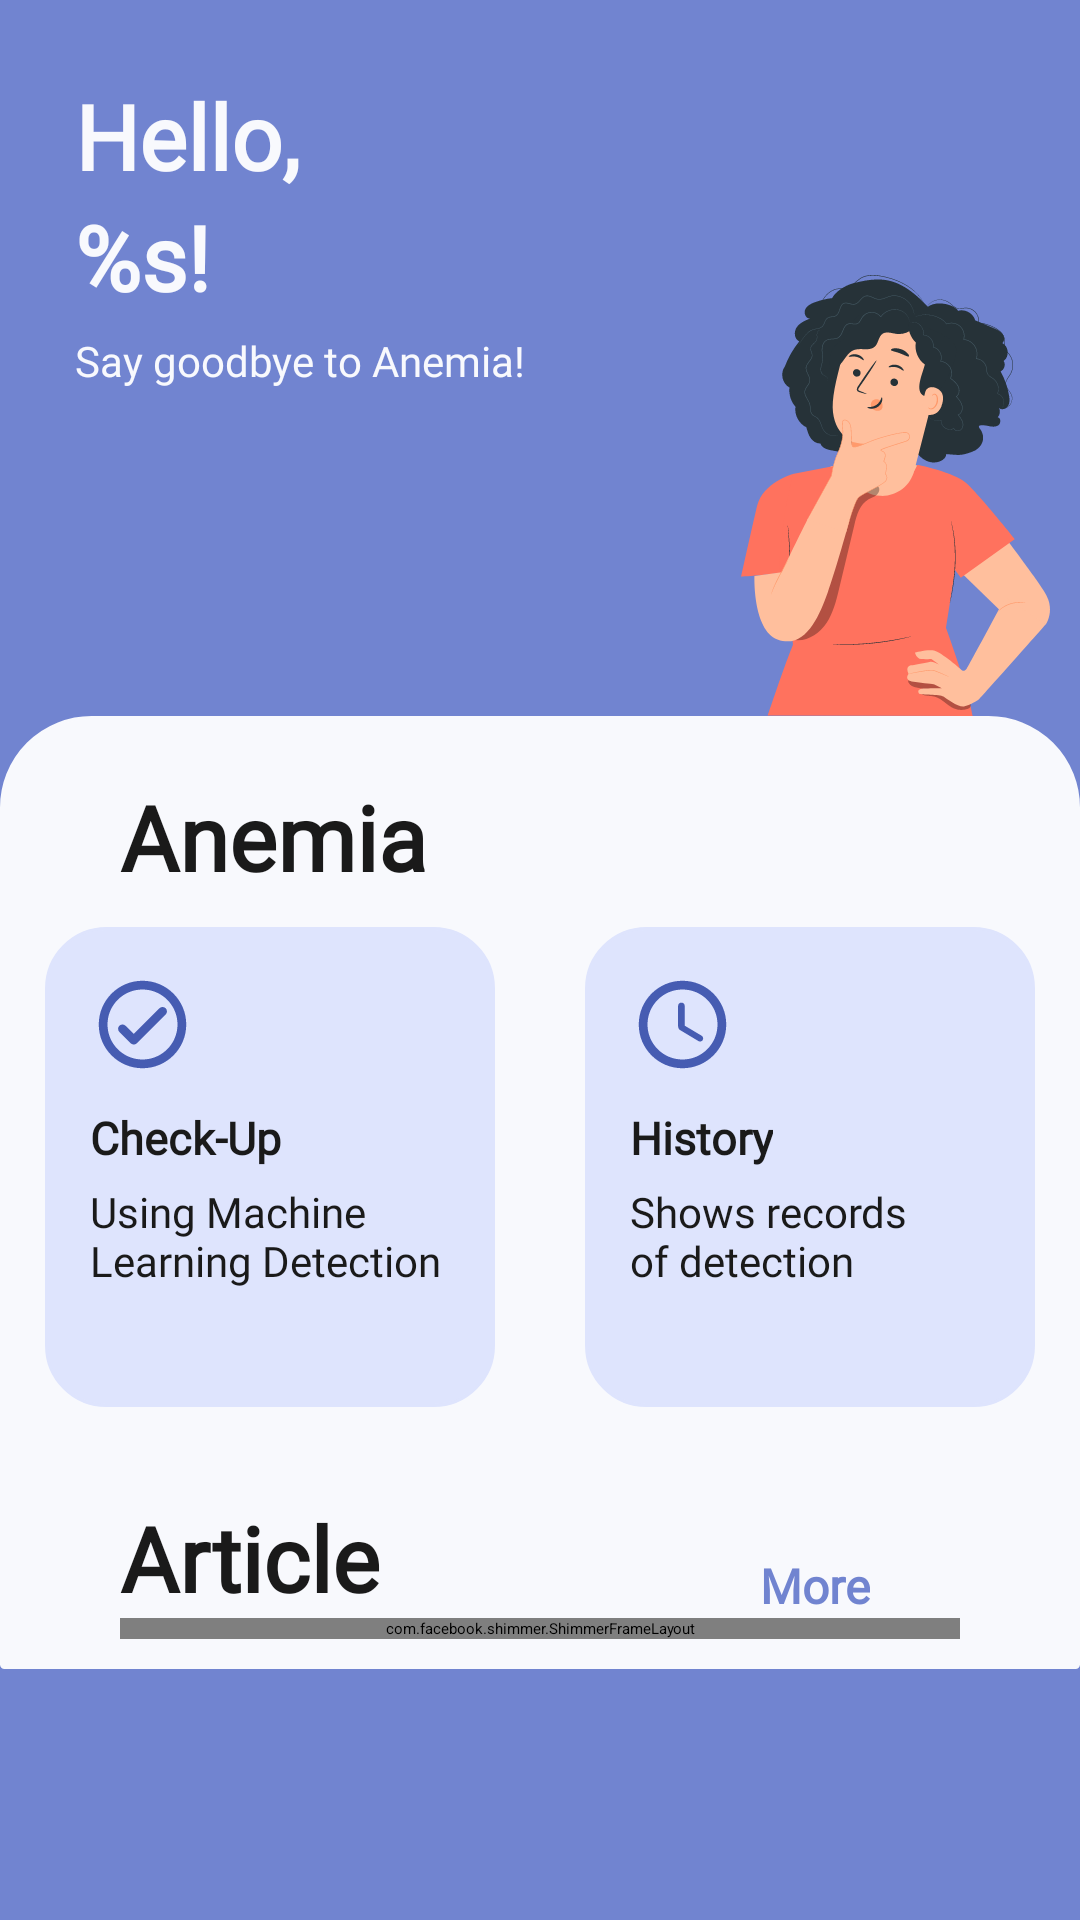

Icon click points for this 1080*1920 phone screenshot, format (x,y):
clock: (682,1024)
